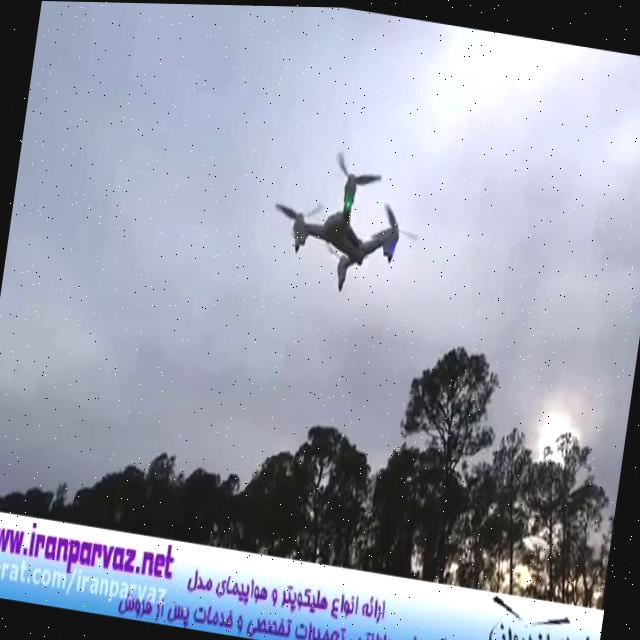drone: (260, 134, 430, 305)
